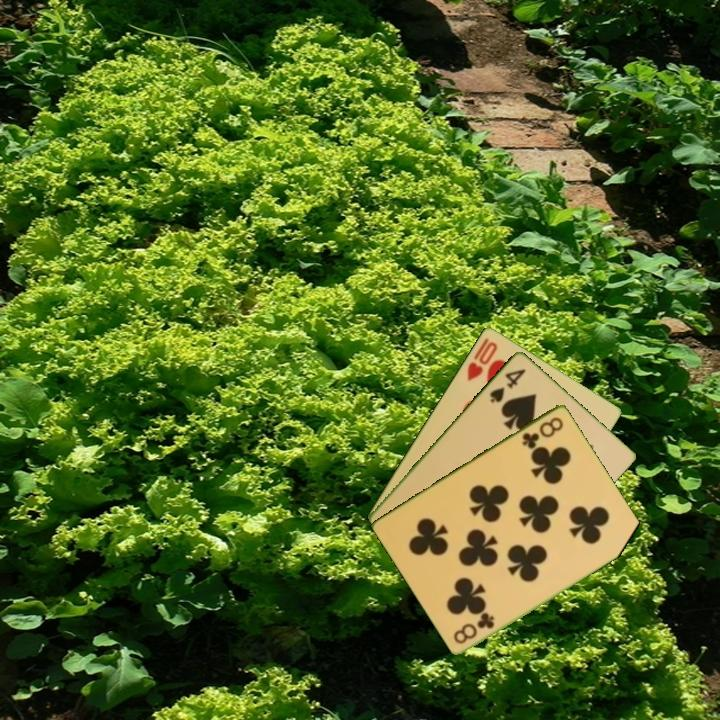10h: (463, 337, 500, 384)
4s: (486, 365, 529, 405)
8c: (518, 413, 566, 451), (450, 609, 497, 647)
